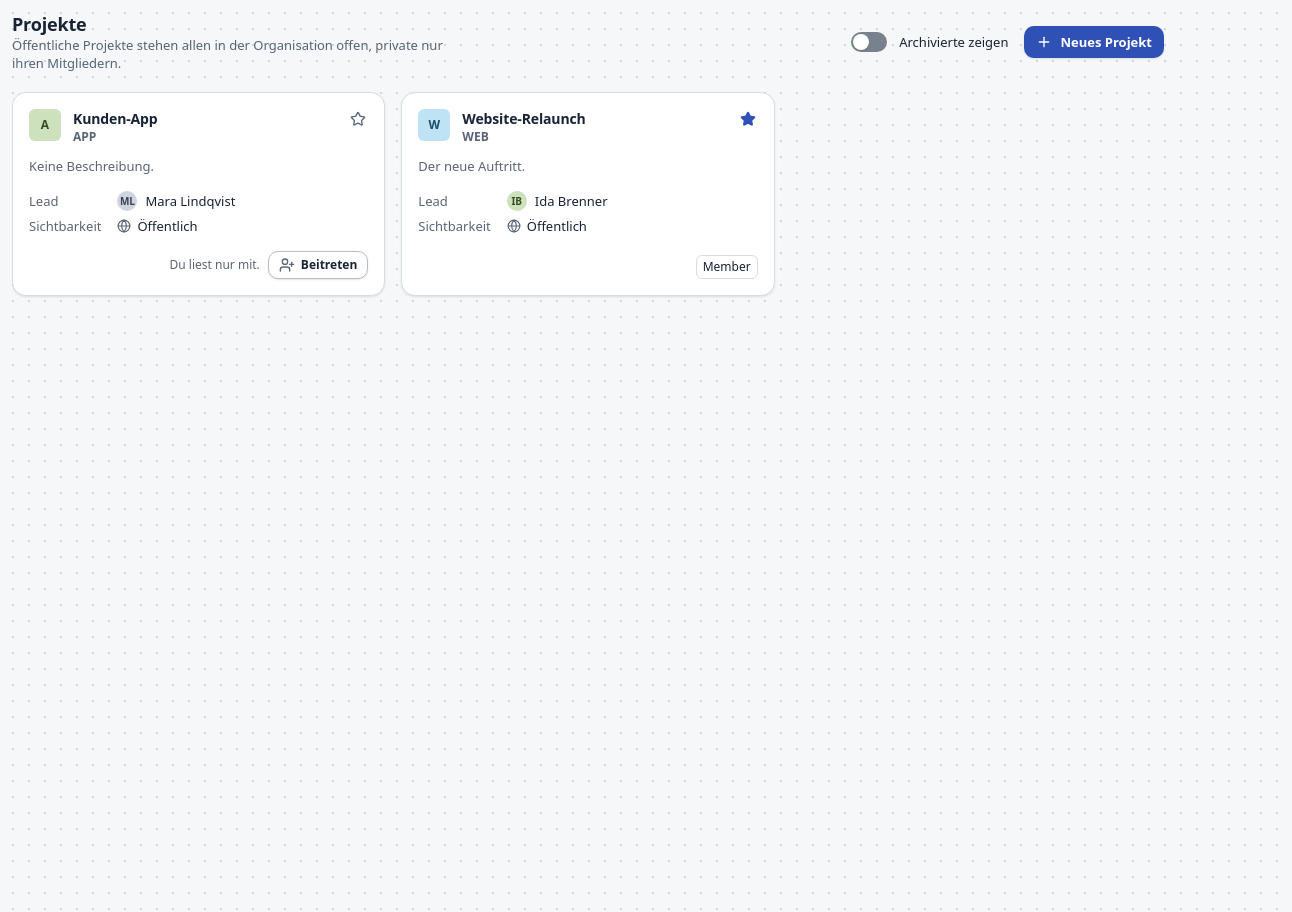
it: ProjectsScreen › joins a public project with one click, and keeps the focus on its card
expect the link "Kunden-App" is shown: met, box x1=73 y1=109 x2=158 y2=128
Click the button "Beitreten" at coordinates (318, 265), box x1=268 y1=251 x2=368 y2=279
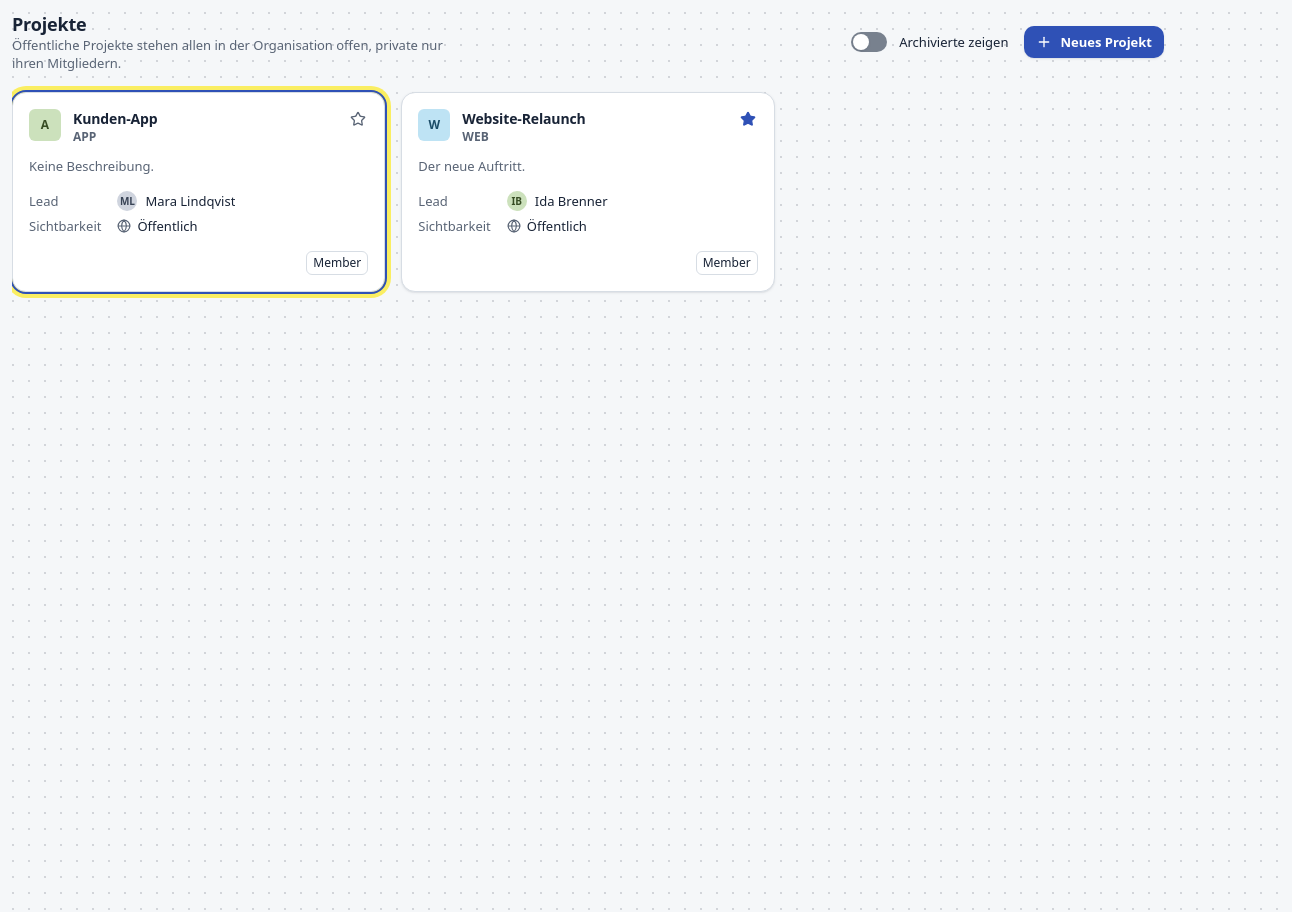
expect the button "Beitreten" is gone: met
